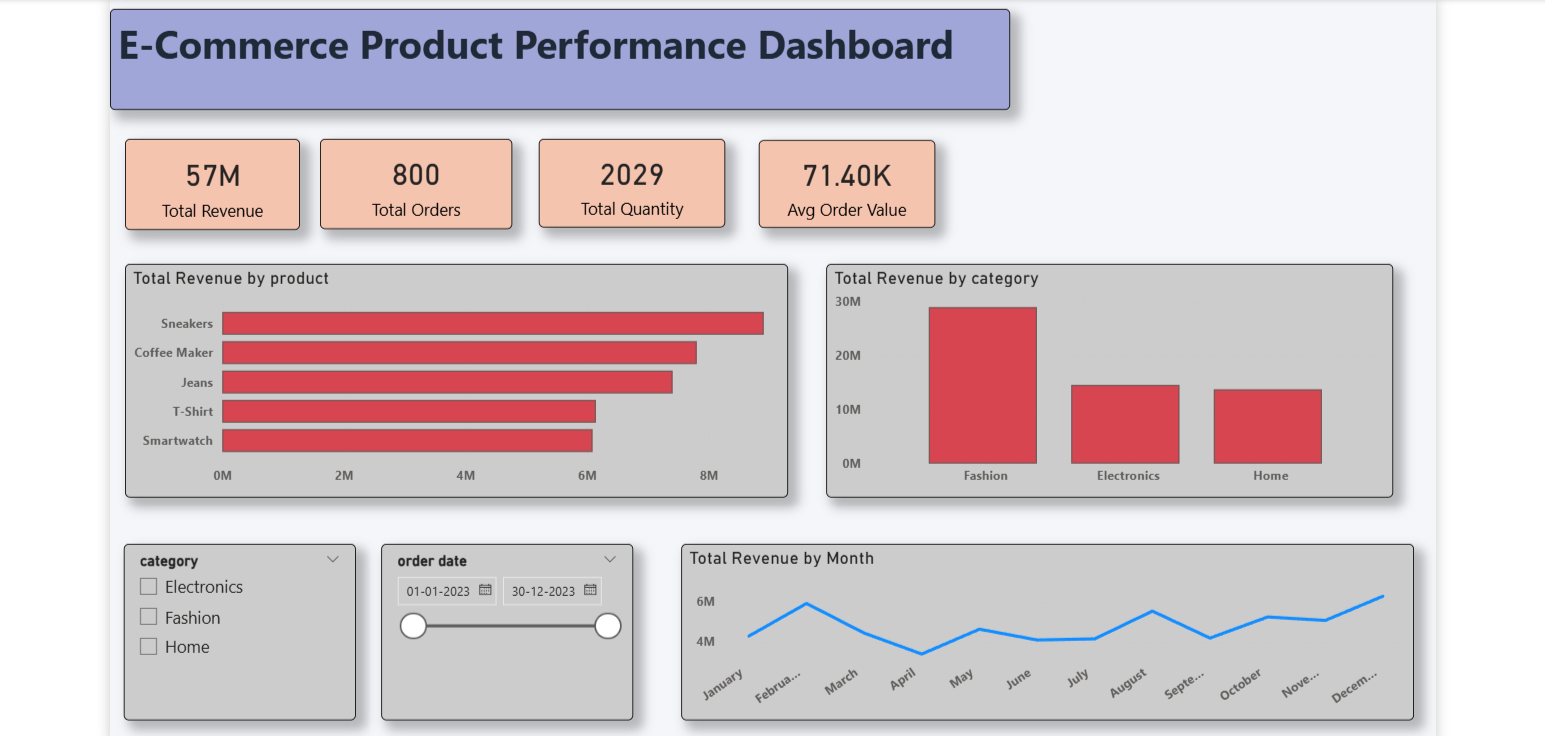

The dashboard page shown, as its layout file describes it:
{"tool":"powerbi","page":{"name":"PPDB","canvas":[1280,720],"ordinal":0},"visuals":[{"type":"card","fields":{"Values":["orders_powerbi_project.Total Revenue"]},"box":[14.3,135.7,168.6,87.1],"z":0},{"type":"card","fields":{"Values":["orders_powerbi_project.Total Quantity"]},"box":[414.3,135.7,180,85.7],"z":1000},{"type":"card","fields":{"Values":["orders_powerbi_project.Avg Order Value"]},"box":[626.2,136.2,170,85],"z":2000},{"type":"card","fields":{"Values":["orders_powerbi_project.Total Orders"]},"box":[202.9,135.7,185.7,87.1],"z":3000},{"type":"clusteredColumnChart","fields":{"Category":["products_powerbi_project.category"],"Y":["orders_powerbi_project.Total Revenue"]},"box":[691.4,255.7,547.1,225.7],"z":4000},{"type":"clusteredBarChart","fields":{"Category":["products_powerbi_project.product_name"],"Y":["orders_powerbi_project.Total Revenue"]},"box":[14.3,255.7,640,225.7],"z":5000},{"type":"lineChart","fields":{"Category":["orders_powerbi_project.order_date.Variation.Date Hierarchy.Month"],"Y":["orders_powerbi_project.Total Revenue"]},"box":[551.2,526.2,707.5,170],"z":6000},{"type":"slicer","fields":{"Values":["products_powerbi_project.category"]},"box":[13.8,526.2,223.8,170],"z":7000},{"type":"slicer","fields":{"Values":["orders_powerbi_project.order_date"]},"box":[261.4,525.7,242.9,170],"z":8000},{"type":"textbox","box":[13.3,9.7,826.4,101.3],"z":9000}]}

Visuals, with their boxes in screenshot pixels (x1, y1, x2, y2):
card - orders_powerbi_project.Total Revenue: box=[120, 134, 296, 225]
card - orders_powerbi_project.Total Quantity: box=[538, 134, 726, 223]
card - orders_powerbi_project.Avg Order Value: box=[759, 134, 937, 223]
card - orders_powerbi_project.Total Orders: box=[317, 134, 511, 225]
clusteredColumnChart - products_powerbi_project.category x orders_powerbi_project.Total Revenue: box=[828, 259, 1400, 495]
clusteredBarChart - products_powerbi_project.product_name x orders_powerbi_project.Total Revenue: box=[120, 259, 789, 495]
lineChart - orders_powerbi_project.order_date.Variation.Date Hierarchy.Month x orders_powerbi_project.Total Revenue: box=[681, 542, 1421, 720]
slicer - products_powerbi_project.category: box=[119, 542, 353, 720]
slicer - orders_powerbi_project.order_date: box=[378, 542, 632, 719]
textbox: box=[119, 2, 983, 108]
